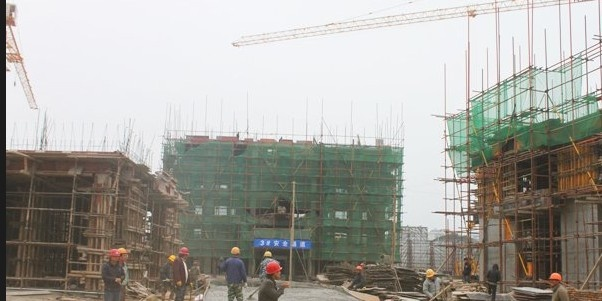red: (265, 261, 282, 279), (548, 270, 562, 287), (108, 248, 119, 263), (178, 246, 189, 259)
yellow: (118, 247, 129, 262), (425, 268, 435, 280), (230, 245, 240, 257), (262, 249, 272, 260), (167, 253, 175, 264)
